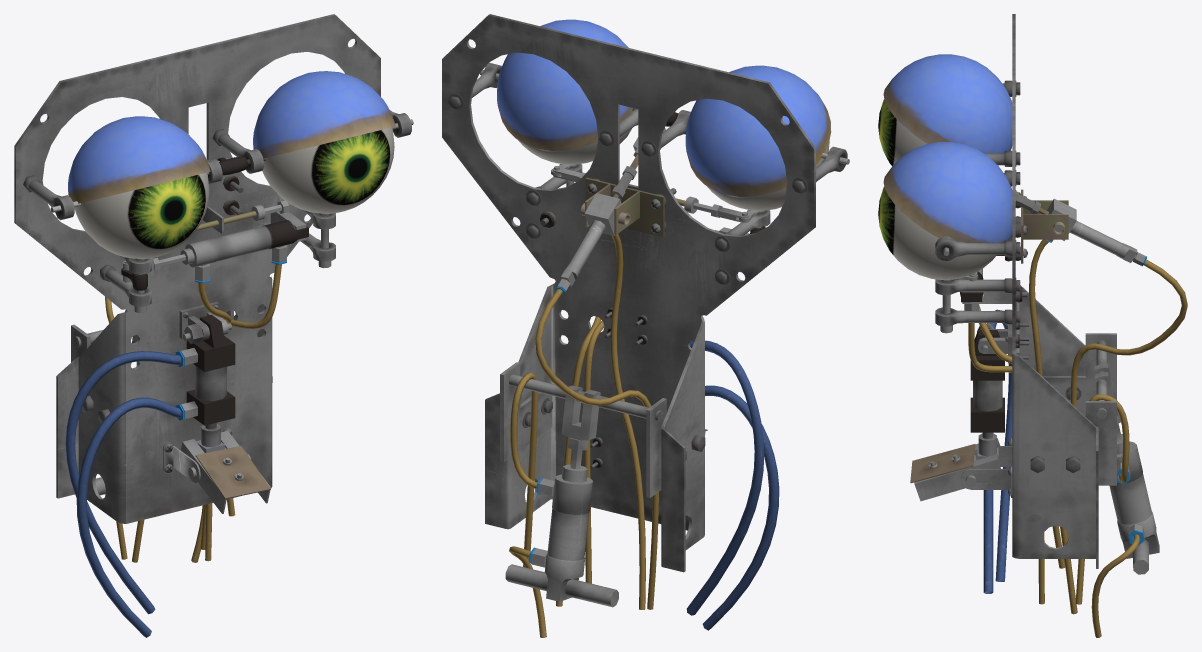
The picture shows the model from 3 angles, left to right: view 1: azimuth 30°, elevation 25°; view 2: azimuth 150°, elevation 25°; view 3: azimuth 270°, elevation 25°; orthographic projection. The views are drawn at different scales.
Visible parts, largest first — view 1: BaseHead, Tubes, Longbolts, Scres; view 2: BaseHead, Tubes, Longbolts, Scres; view 3: BaseHead, Tubes, Longbolts, Scres.
Part boxes in pixels (x1,y1,x2,y2): BaseHead: (14, 14, 413, 523); Tubes: (65, 264, 281, 637); Longbolts: (23, 110, 411, 423); Scres: (164, 175, 243, 472); BaseHead: (442, 14, 849, 607); Tubes: (509, 234, 779, 637); Longbolts: (448, 62, 847, 460); Scres: (540, 178, 676, 469); BaseHead: (878, 14, 1159, 574); Tubes: (968, 239, 1187, 637); Longbolts: (935, 80, 1081, 473); Scres: (996, 193, 1028, 496).
Size of the model in its own units: 0.4545 by 0.67 by 0.3442.
Materials: 1 (1 with a texture image).
